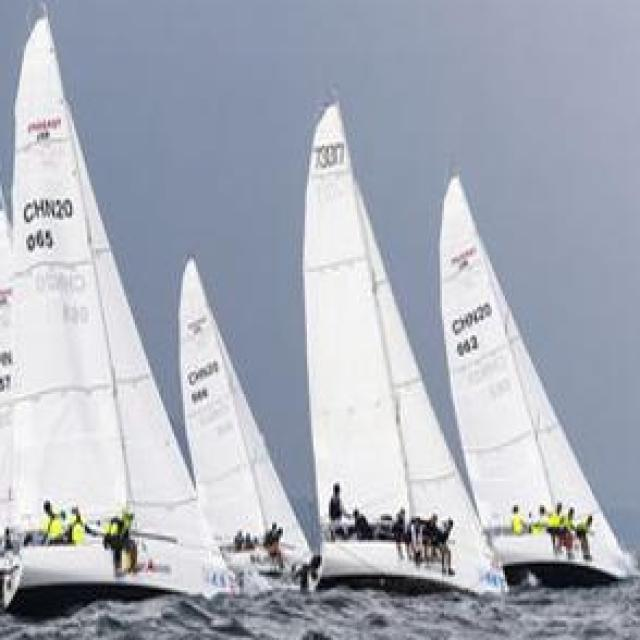sailboat: (0, 0, 244, 596), (269, 100, 489, 598), (417, 171, 620, 587), (158, 244, 320, 583)
